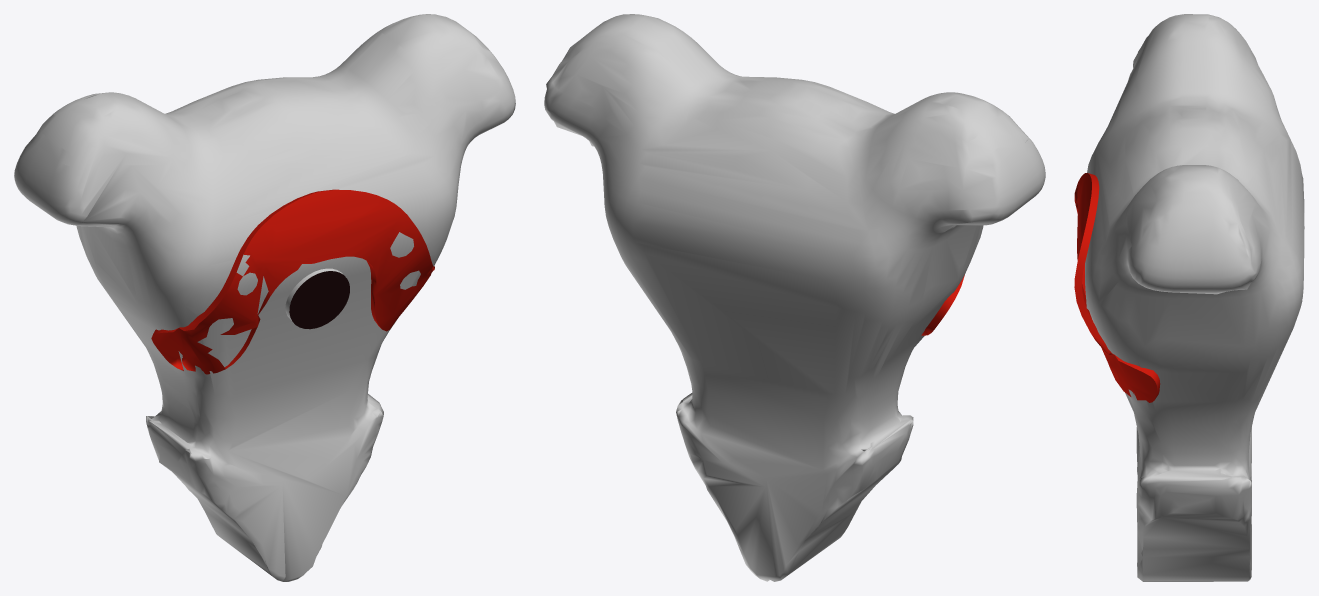
The model's file is Nao6_Body.obj.
3 views of the same model, side by side, from view 1: azimuth 30°, elevation 25°; view 2: azimuth 150°, elevation 25°; view 3: azimuth 270°, elevation 25° (orthographic). The views are drawn at different scales.
Parts seen in each view (by area): view 1: Nao6_Body; view 2: Nao6_Body; view 3: Nao6_Body.
Boxes of the visible parts, x1,y1,x2,y2 form: Nao6_Body: (14,14,515,581); Nao6_Body: (544,14,1045,581); Nao6_Body: (1074,14,1304,581).
Size of the model in its own units: 1.42 by 1.47 by 0.6354.
